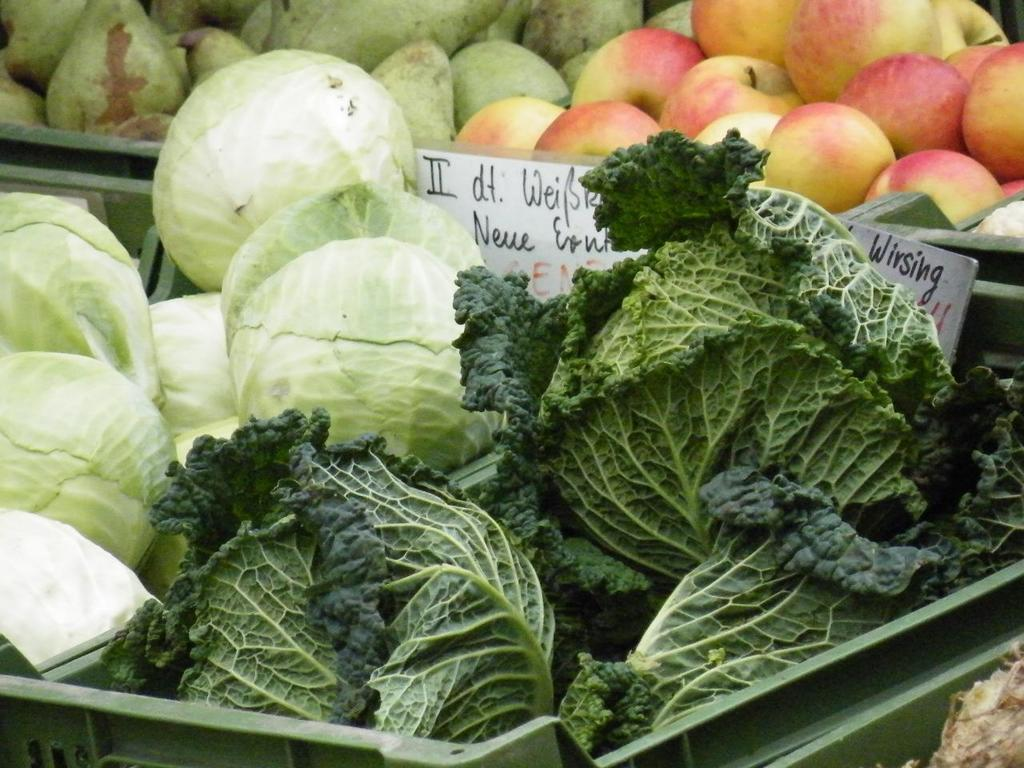Cabbage: (0, 49, 1023, 759)
